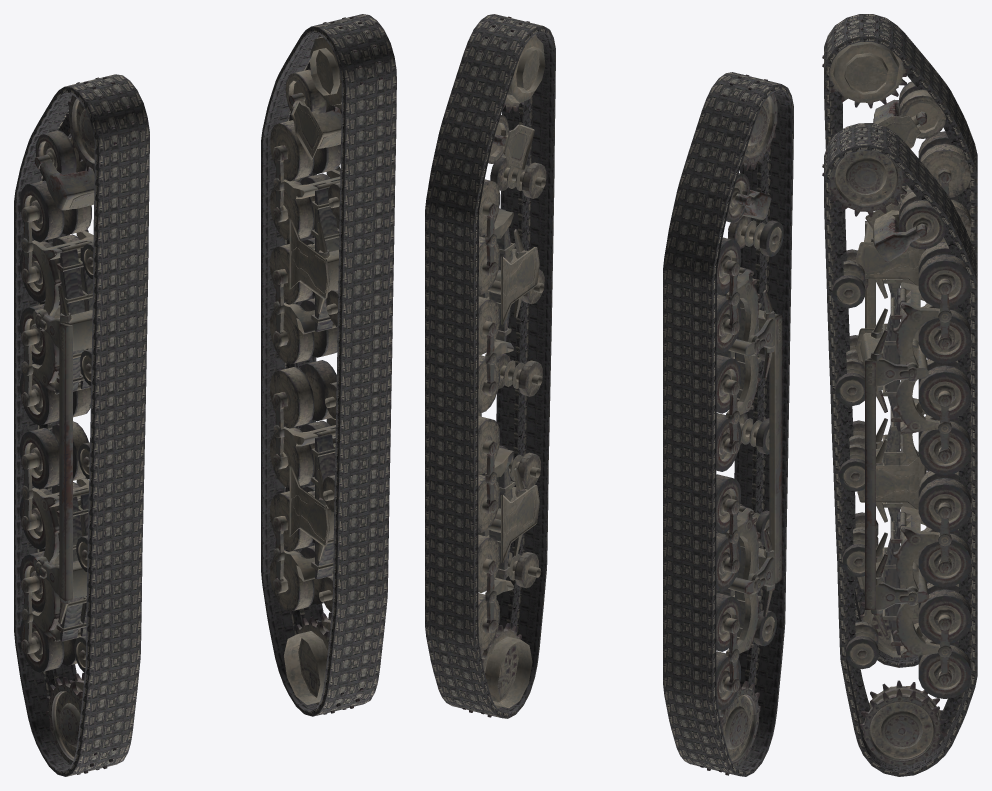
The model's file is Chassis.glb.
3 views of the same model, side by side, from view 1: azimuth 30°, elevation 25°; view 2: azimuth 150°, elevation 25°; view 3: azimuth 270°, elevation 25° (orthographic). The views are drawn at different scales.
Parts seen in each view (by area): view 1: set_1_group_0, set_0_group_0, set_5_group_0, set_3_group_0; view 2: set_1_group_0, set_0_group_0, set_5_group_0, set_3_group_0; view 3: set_3_group_0, set_1_group_0, set_5_group_0, set_0_group_0, set_2_group_0.
Part boxes in pixels (left/top/right/bottom): set_1_group_0: left=261, top=14, right=396, bottom=716; set_0_group_0: left=14, top=74, right=149, bottom=776; set_5_group_0: left=20, top=77, right=136, bottom=774; set_3_group_0: left=270, top=17, right=382, bottom=714; set_1_group_0: left=425, top=14, right=555, bottom=718; set_0_group_0: left=663, top=72, right=793, bottom=776; set_5_group_0: left=700, top=74, right=783, bottom=775; set_3_group_0: left=462, top=16, right=546, bottom=717; set_3_group_0: left=822, top=128, right=971, bottom=765; set_1_group_0: left=824, top=123, right=977, bottom=776; set_5_group_0: left=822, top=19, right=970, bottom=657; set_0_group_0: left=824, top=14, right=977, bottom=667; set_2_group_0: left=938, top=320, right=951, bottom=349.
Size of the model in its own units: 2.57 by 5.32 by 1.18.
Materials: 6 (6 with a texture image).
